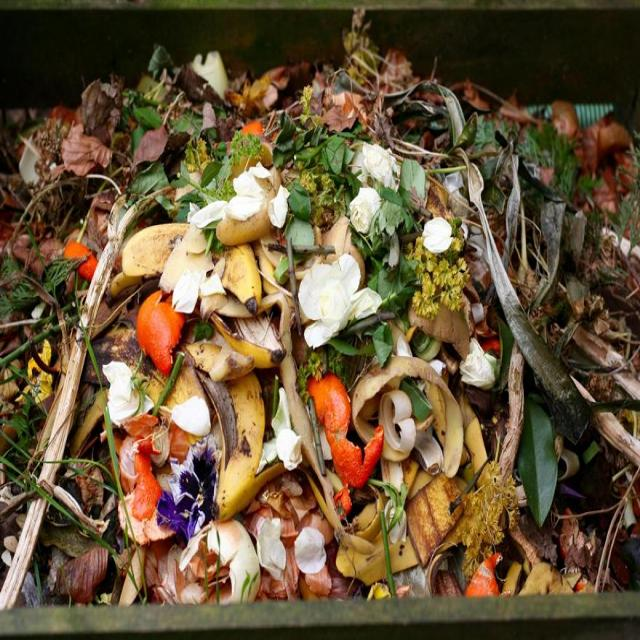food_waste: (22, 129, 608, 560), (177, 99, 493, 587)
